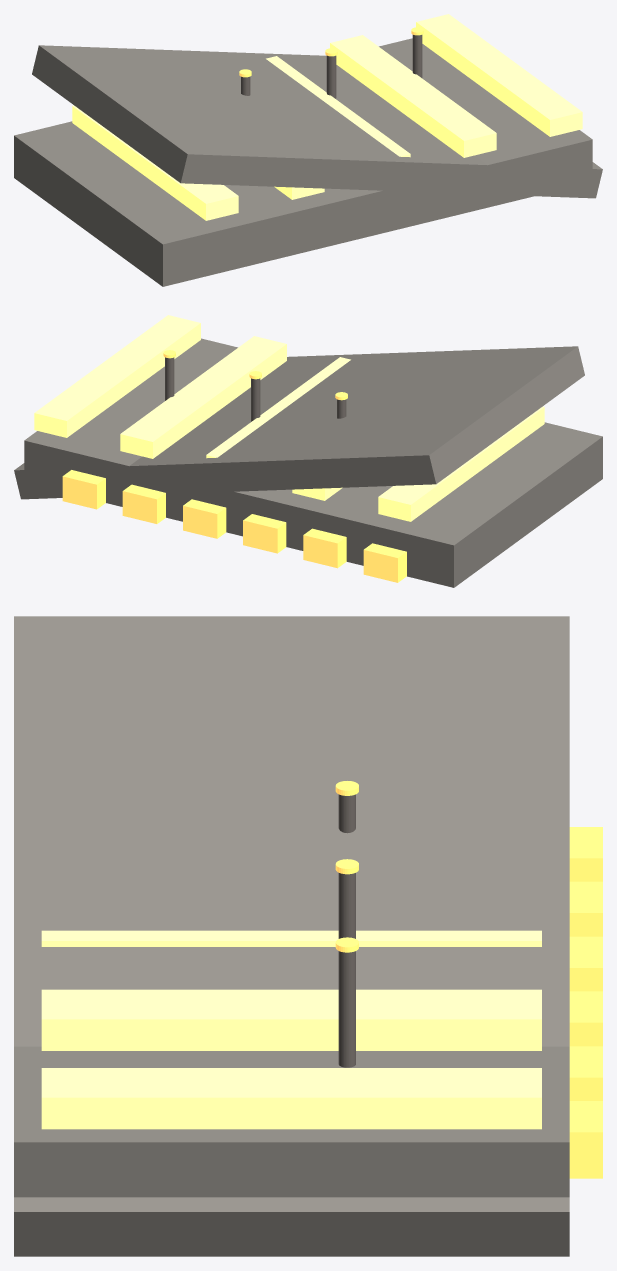
File: foundry_manufacturing_district.glb
3 renders of one model, top to bottom at view 1: azimuth 30°, elevation 25°; view 2: azimuth 150°, elevation 25°; view 3: azimuth 270°, elevation 25°, orthographic. The views are drawn at different scales.
Parts seen in each view (by area): view 1: foundry_manufacturing_district; view 2: foundry_manufacturing_district; view 3: foundry_manufacturing_district.
Part boxes in pixels (x1,y1,x2,y2): foundry_manufacturing_district: (14,14,602,286); foundry_manufacturing_district: (14,315,602,587); foundry_manufacturing_district: (14,616,602,1256).
Size of the model in its own units: 156 by 48.72 by 96.88.
